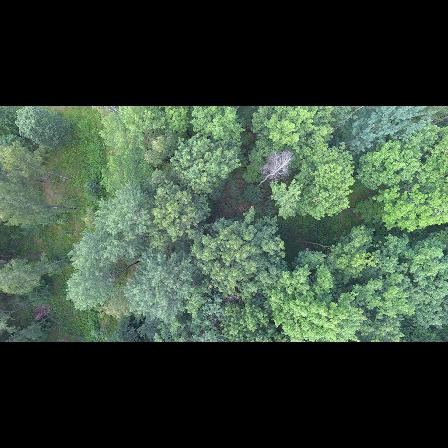Dead: (256, 148, 292, 189)
